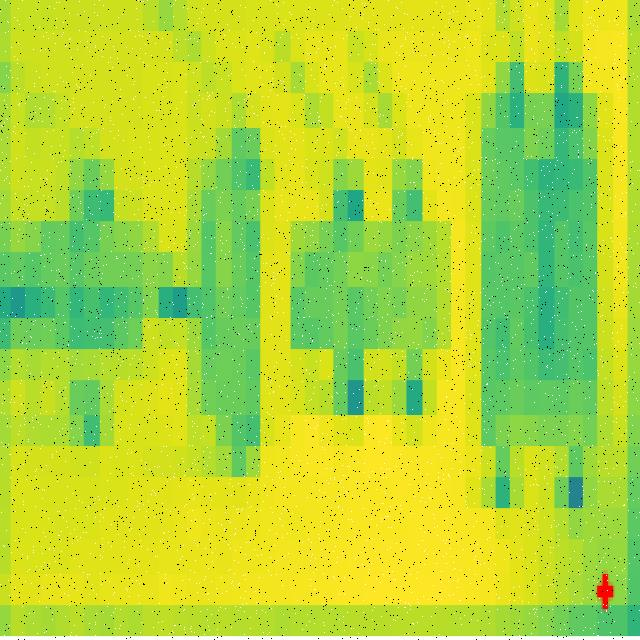Concrete: (35, 218, 145, 357)
Glass: (480, 86, 602, 454)
Metal: (191, 170, 276, 451)
Wood: (288, 218, 457, 362)
